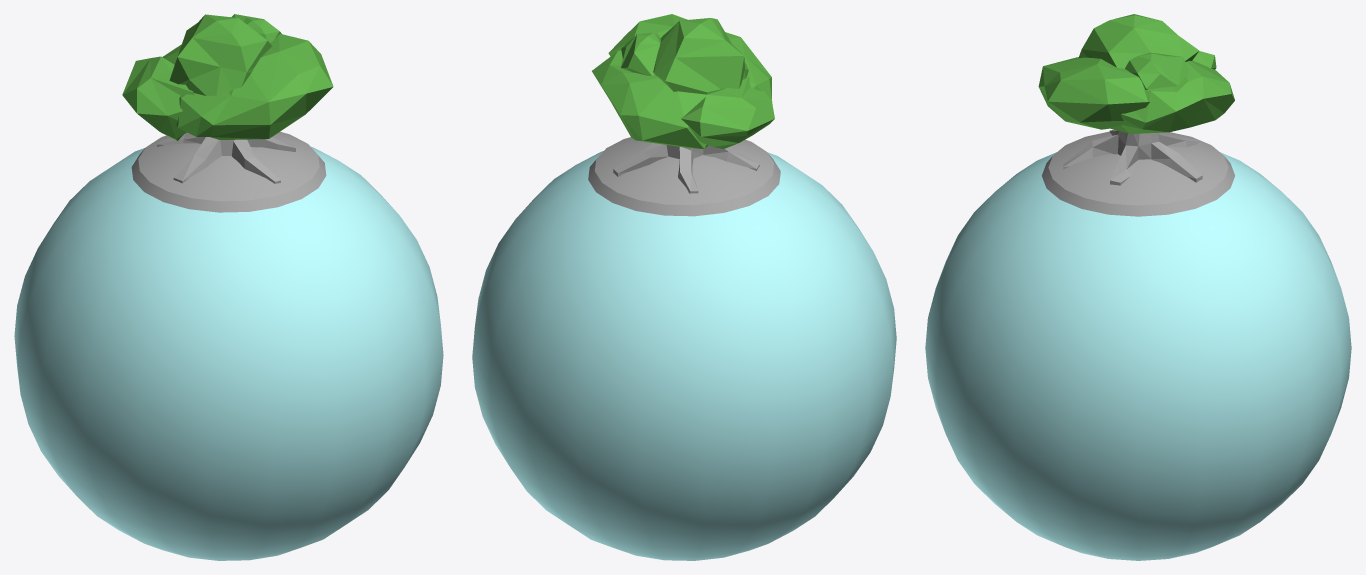
File: wakusei_1.fbx
3 renders of one model, left to right at view 1: azimuth 30°, elevation 25°; view 2: azimuth 150°, elevation 25°; view 3: azimuth 270°, elevation 25°, orthographic.
Visible parts, largest first — view 1: polySurface1, polySurface2, pCube1, pSphere2, pSphere3, pCylinder1, pSphere4; view 2: polySurface1, polySurface2, pCube2, pSphere2, pSphere3, pCylinder1, pCube1, pSphere4; view 3: polySurface1, polySurface2, pCube1, pCube2, pSphere2, pCylinder1, pSphere4.
Part boxes in pixels (x1,y1,x2,y2): polySurface1: (14,146,443,560); polySurface2: (131,131,326,212); pCube1: (176,34,333,139); pSphere2: (169,14,271,95); pSphere3: (122,56,194,140); pCylinder1: (157,132,295,183); pSphere4: (231,14,281,42); polySurface1: (472,151,896,560); polySurface2: (588,137,780,216); pCube2: (592,50,708,149); pSphere2: (653,18,748,94); pSphere3: (681,76,774,149); pCylinder1: (613,142,759,193); pCube1: (608,14,772,102); pSphere4: (621,32,660,75); polySurface1: (925,152,1351,560); polySurface2: (1042,131,1234,216); pCube1: (1038,57,1149,129); pCube2: (1111,60,1234,133); pSphere2: (1078,14,1199,68); pCylinder1: (1063,130,1202,185); pSphere4: (1125,52,1188,89).
Size of the model in its own units: 12.49 by 16.78 by 12.49.
